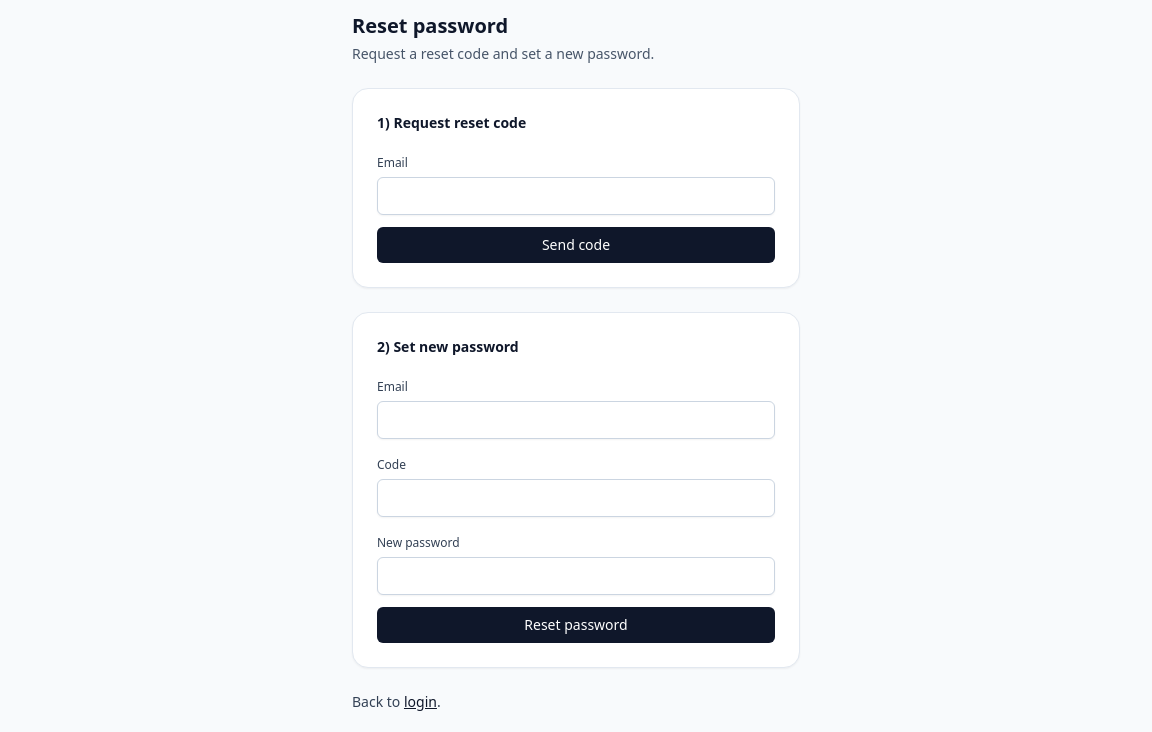
Scenario: ResetPasswordPage › requests a reset code and prefills the email for the reset form
The width and height of the screenshot is (1152, 732).
Type "user@example.com" into the field labelled "Email" below "1) Request reset code" at (576, 196), box [377,177,775,215]
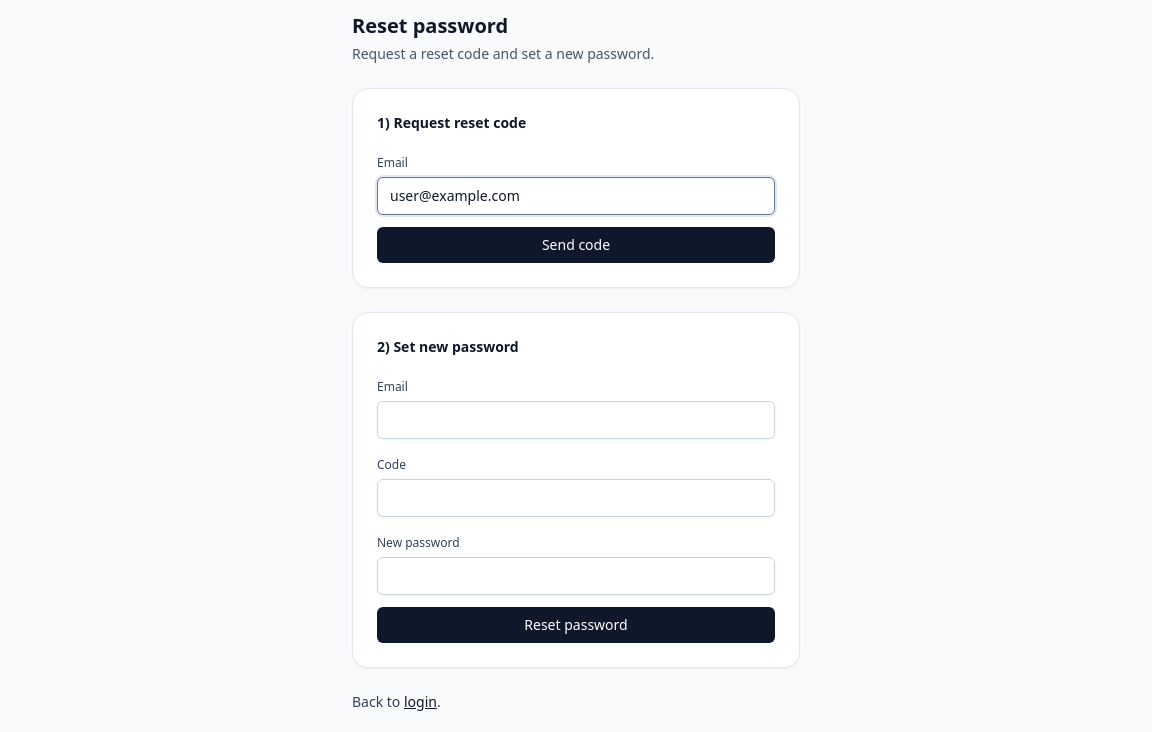
Click the button "Send code" at (576, 245), box [377,227,775,263]
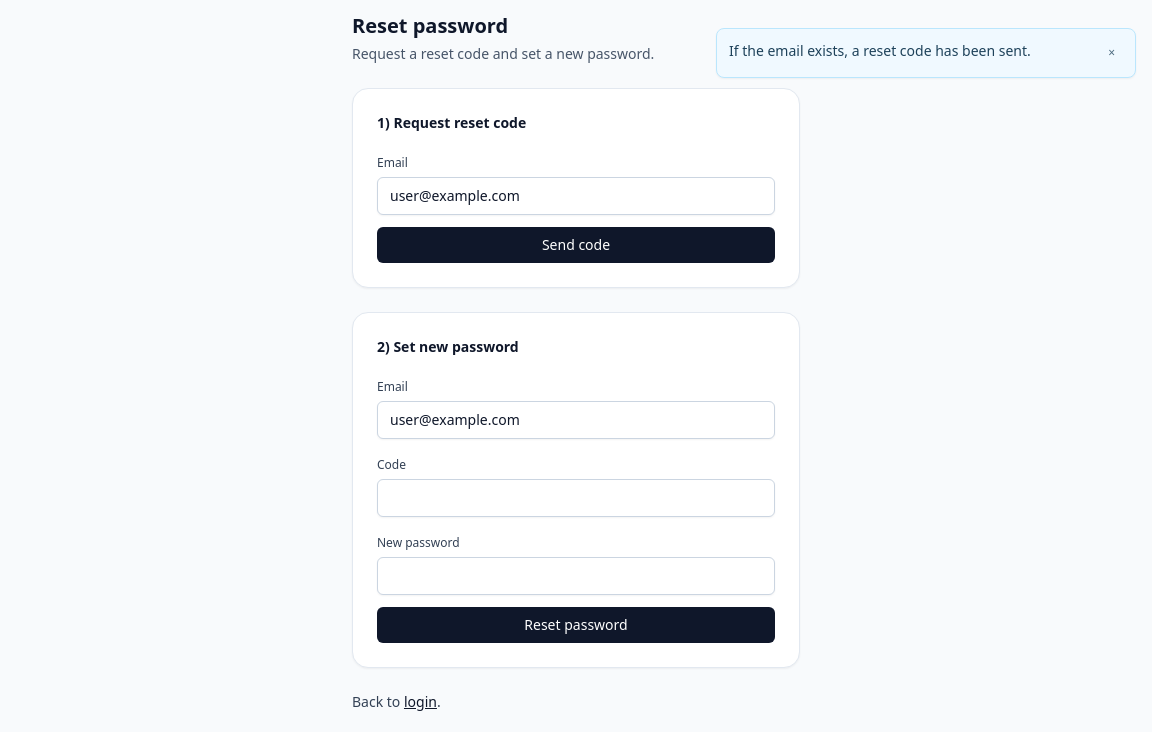
Now the text "If the email exists, a reset code has been sent." is shown, box [729,41,1031,60]
Now the field labelled "Email" below "2) Set new password" holds "user@example.com", box [377,401,775,439]
